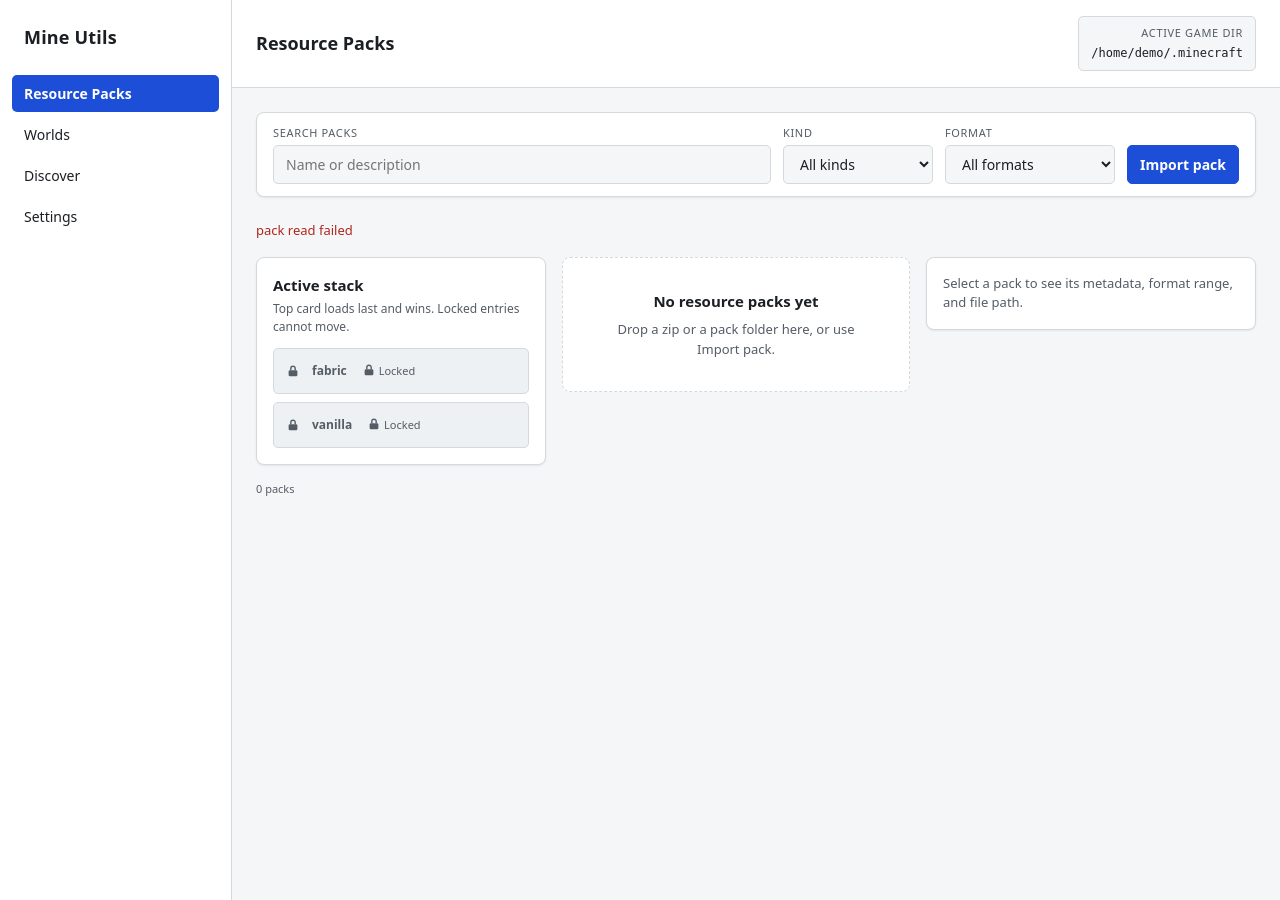
Scenario: retries a failed pack list on the next Packs activation
The width and height of the screenshot is (1280, 900).
expect the text "pack read failed" is shown: met, box [256,221,353,239]
Click the button "Settings": [116, 216] box [12,198,219,235]
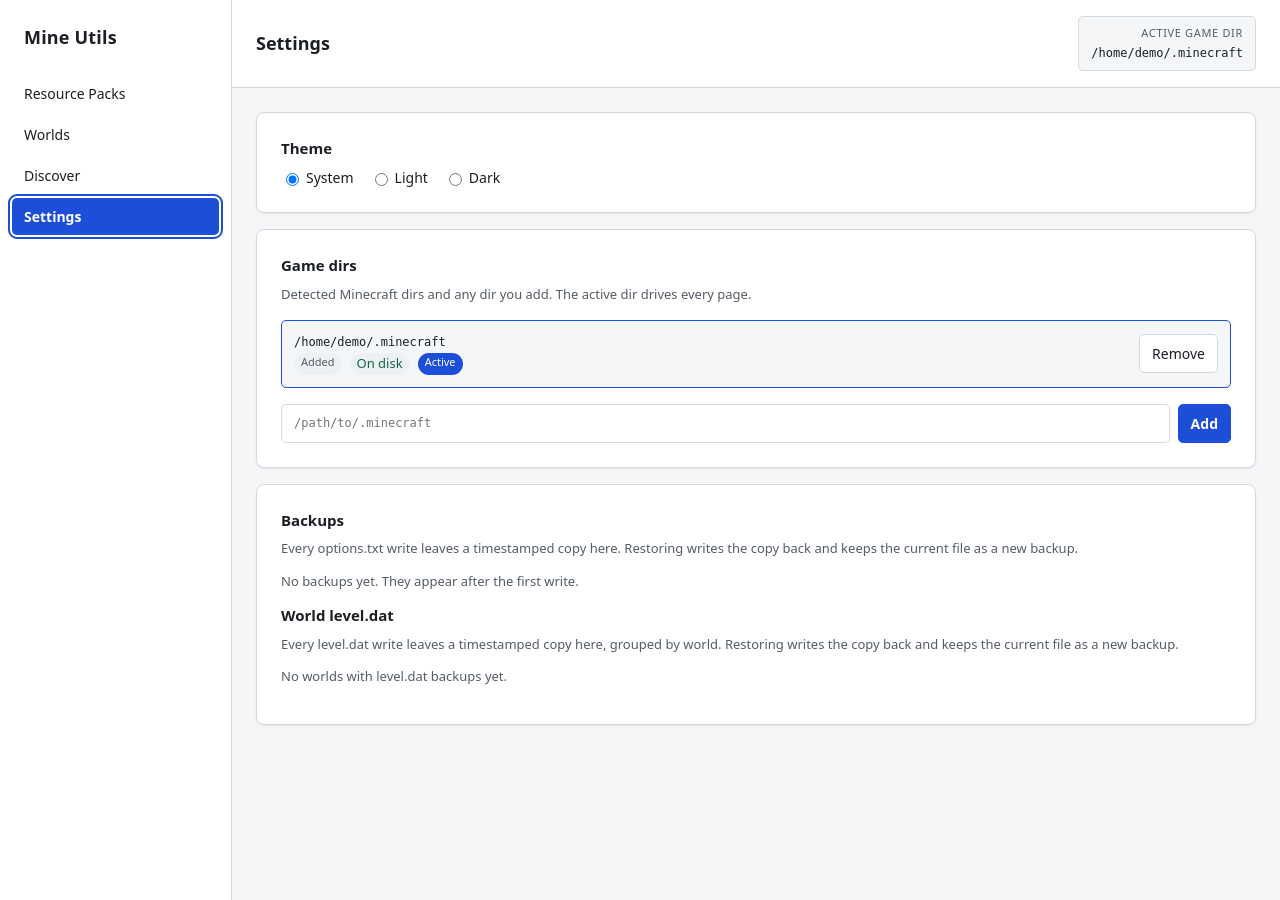
Click the button "Resource Packs": [116, 94] box [12,75,219,112]
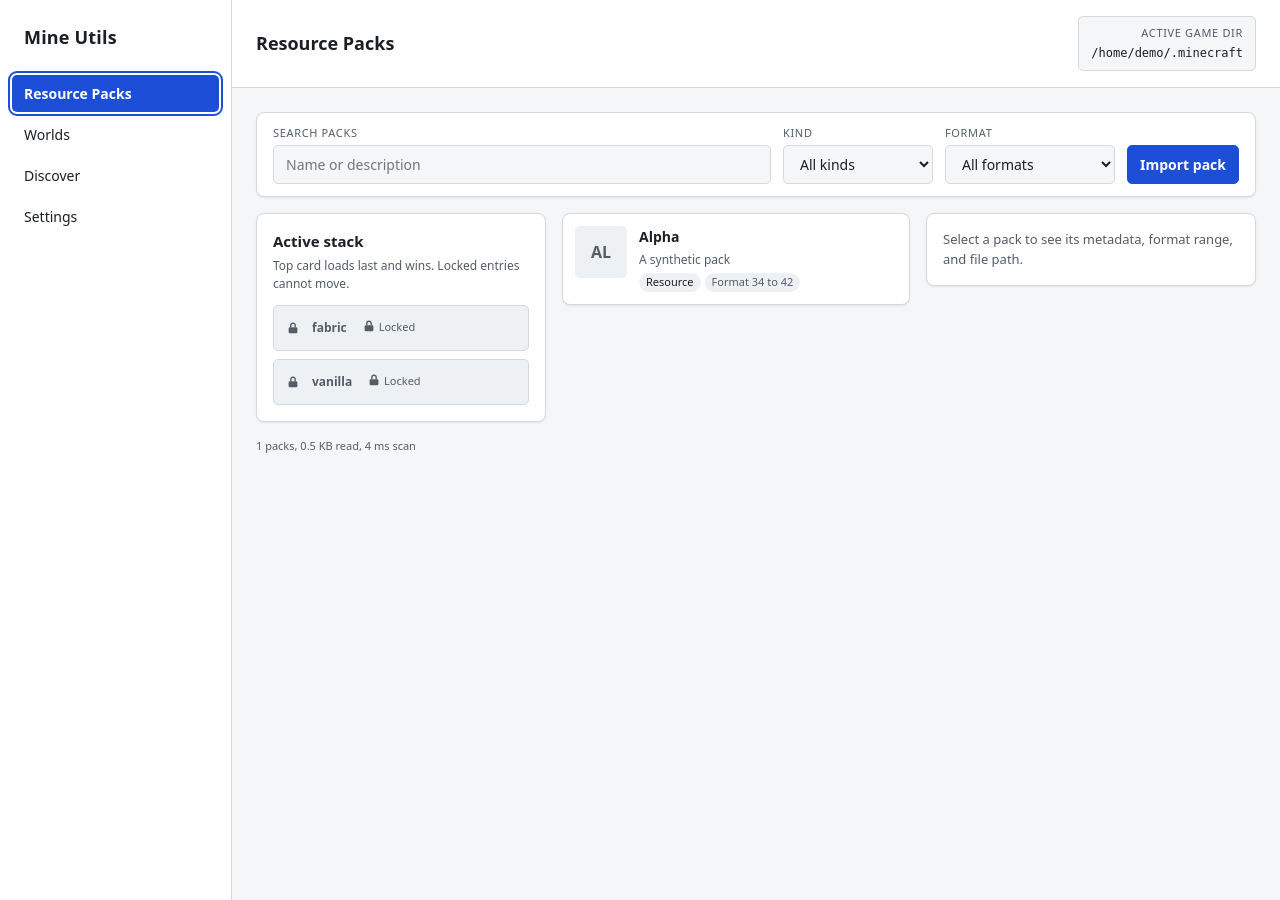
expect the text "pack read failed" is not shown: met
expect the button "AL Alpha A synthetic pack Resource Format 34 to 42" is shown: met, box [562,213,910,304]
